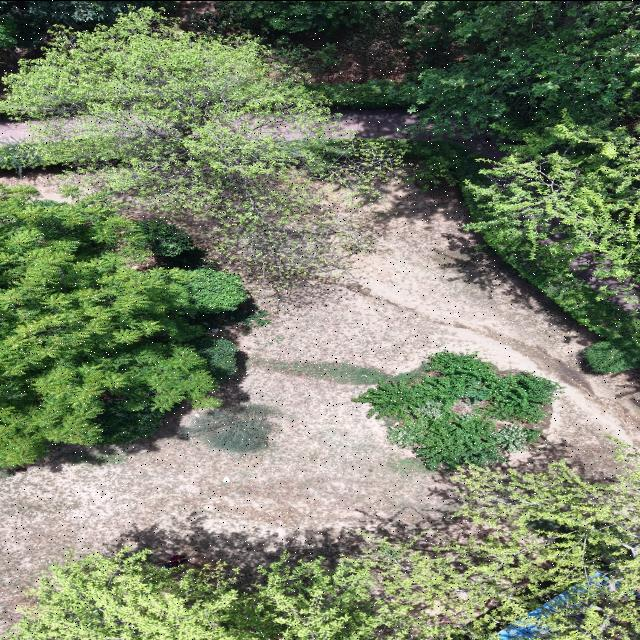DRY_AREA: (0, 183, 639, 628), (245, 186, 637, 475), (325, 108, 505, 159), (325, 108, 504, 159), (286, 16, 420, 83), (329, 108, 505, 159), (324, 108, 503, 158), (325, 108, 503, 158), (326, 108, 501, 157), (332, 108, 502, 158), (305, 20, 417, 82), (305, 21, 417, 82), (568, 251, 639, 316), (569, 251, 639, 315), (332, 108, 433, 138), (167, 1, 215, 29), (0, 119, 31, 142)
VEGETATION_TREE: (0, 1, 639, 465), (200, 1, 639, 359), (6, 447, 639, 639), (311, 1, 639, 361), (1, 5, 399, 285), (0, 9, 399, 286), (215, 1, 639, 172), (0, 188, 247, 466), (206, 1, 639, 135), (401, 123, 639, 362), (386, 447, 639, 639), (314, 1, 639, 137), (463, 122, 639, 362), (6, 550, 434, 639), (463, 120, 639, 307), (352, 351, 561, 469), (6, 549, 251, 639), (486, 238, 639, 362), (192, 1, 418, 81), (0, 1, 174, 46), (215, 1, 409, 40), (179, 403, 276, 452), (389, 139, 481, 188), (259, 359, 419, 384), (139, 219, 209, 268), (96, 401, 163, 444), (139, 219, 193, 256), (189, 336, 236, 378), (581, 341, 637, 372), (0, 14, 19, 46)
